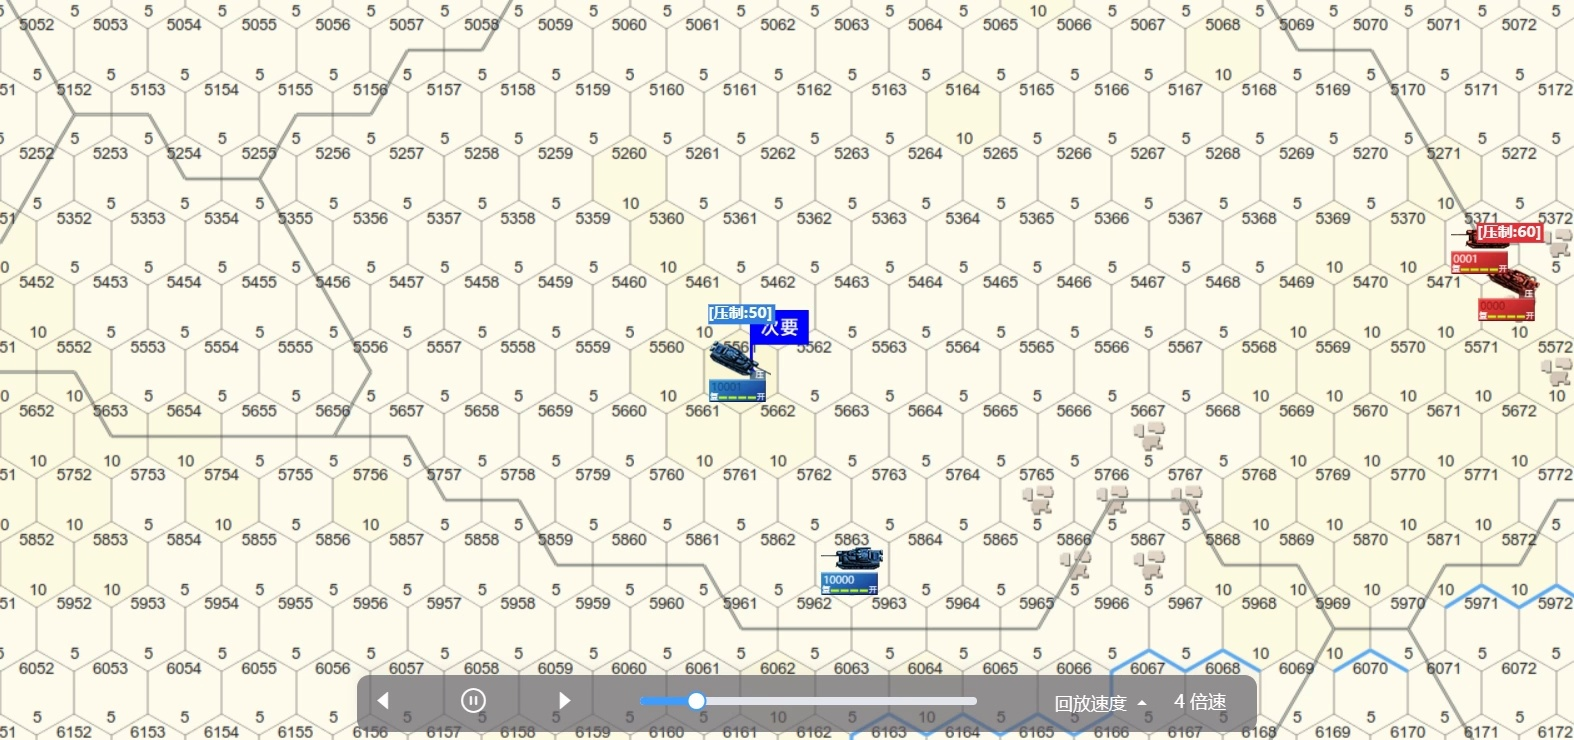blue_tank: (709, 342, 765, 403), (818, 544, 881, 594)
red_tank: (1453, 226, 1516, 280), (1478, 270, 1540, 309)
